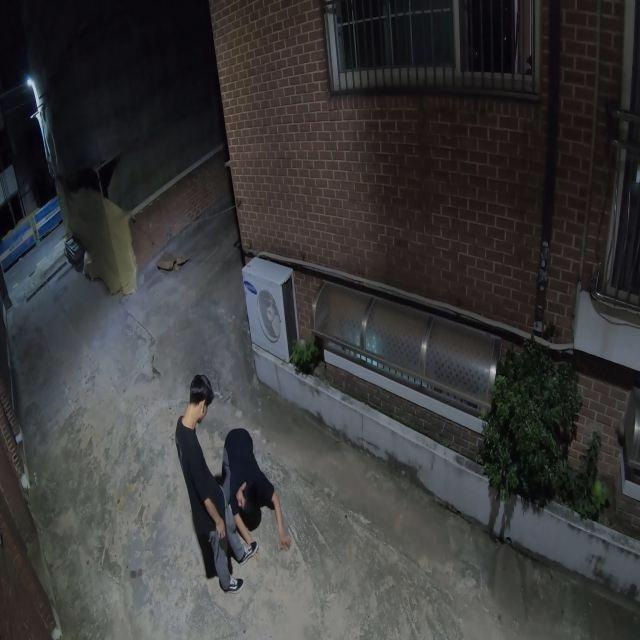fight: (173, 366, 287, 594)
